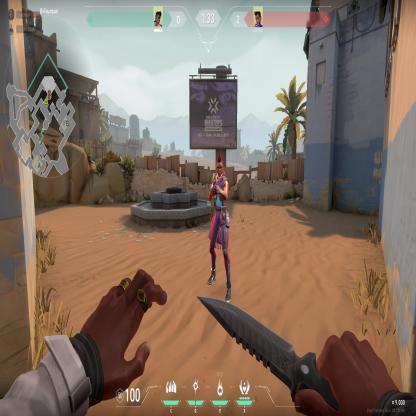enemy: (206, 152, 231, 305)
